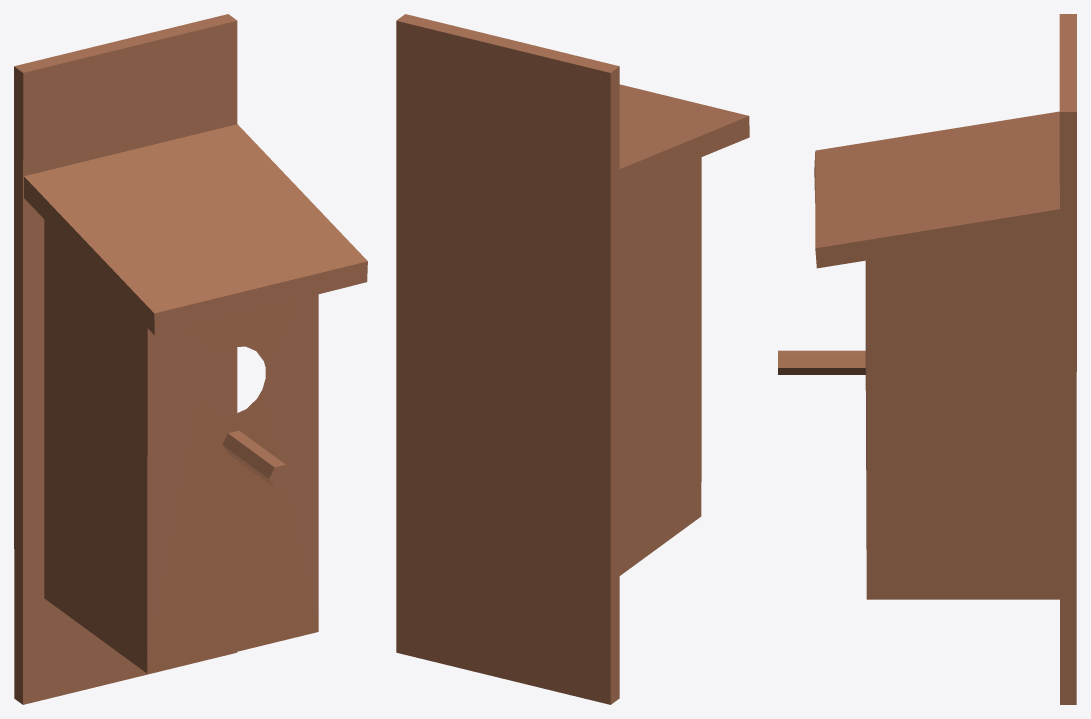
Rendered from bird-house.glb.
3 views of the same model, side by side, from view 1: azimuth 30°, elevation 25°; view 2: azimuth 150°, elevation 25°; view 3: azimuth 270°, elevation 25° (orthographic). The views are drawn at different scales.
Visible parts, largest first — view 1: Bird_House; view 2: Bird_House; view 3: Bird_House.
Boxes of the visible parts, x1=… form: Bird_House: x1=14, y1=14, x2=367, y2=704; Bird_House: x1=396, y1=14, x2=749, y2=704; Bird_House: x1=778, y1=14, x2=1076, y2=704.
Size of the model in its own units: 0.1557 by 0.4386 by 0.2005.
1 material, 1 textured.
